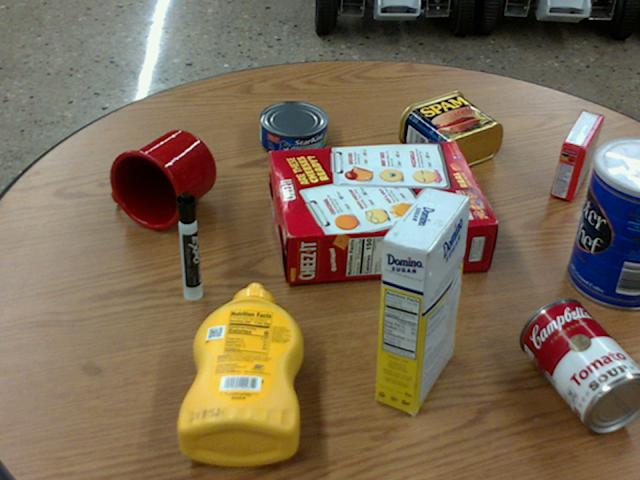cracker_box: (268, 141, 494, 284)
gelatin_box: (551, 111, 602, 200)
large_marker: (176, 191, 200, 299)
master_chef_can: (567, 138, 639, 309)
mug: (109, 129, 214, 229)
mustard_bottle: (178, 282, 302, 464)
potted_meat_can: (399, 91, 502, 170)
sugar_box: (374, 188, 470, 413)
tomato_soup_can: (520, 297, 639, 429)
tuna_fish_can: (259, 100, 327, 155)
